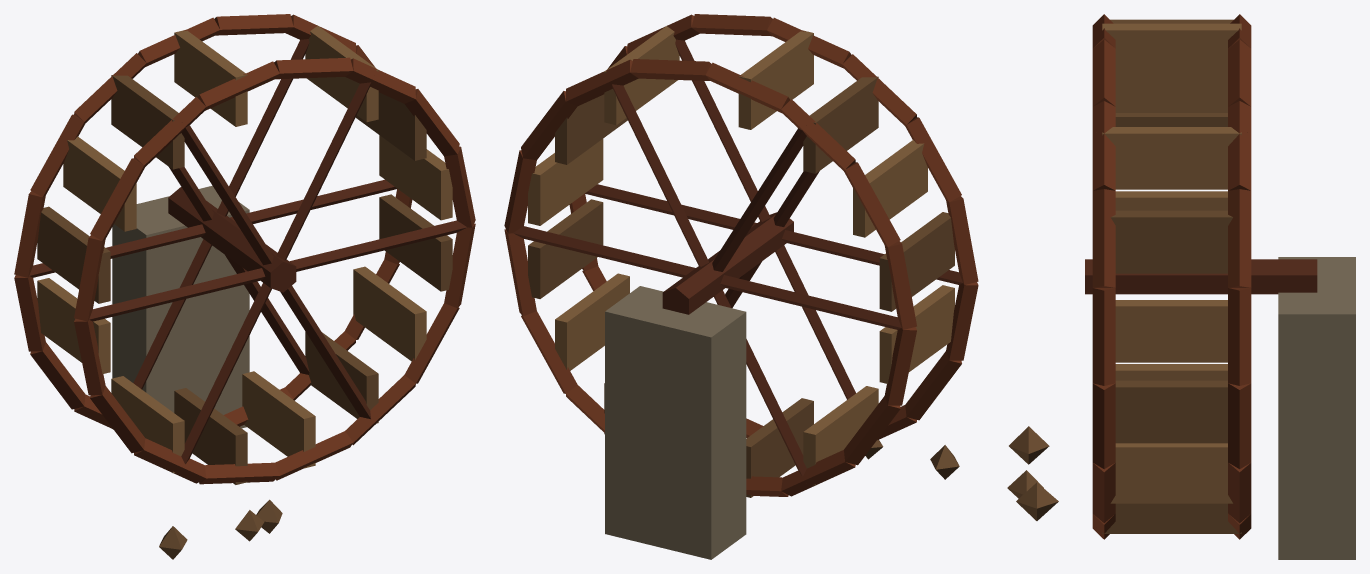
The model's file is waterwheel.glb.
3 views of the same model, side by side, from view 1: azimuth 30°, elevation 25°; view 2: azimuth 150°, elevation 25°; view 3: azimuth 270°, elevation 25° (orthographic). The views are drawn at different scales.
Visible parts, largest first — view 1: waterwheel2; view 2: waterwheel2; view 3: waterwheel2.
Part boxes in pixels (x1,y1,x2,y2): waterwheel2: [14, 14, 475, 559]; waterwheel2: [504, 14, 978, 559]; waterwheel2: [1007, 14, 1355, 559].
Bounding box in the file's own units: 2.72 × 2.86 × 1.8.
